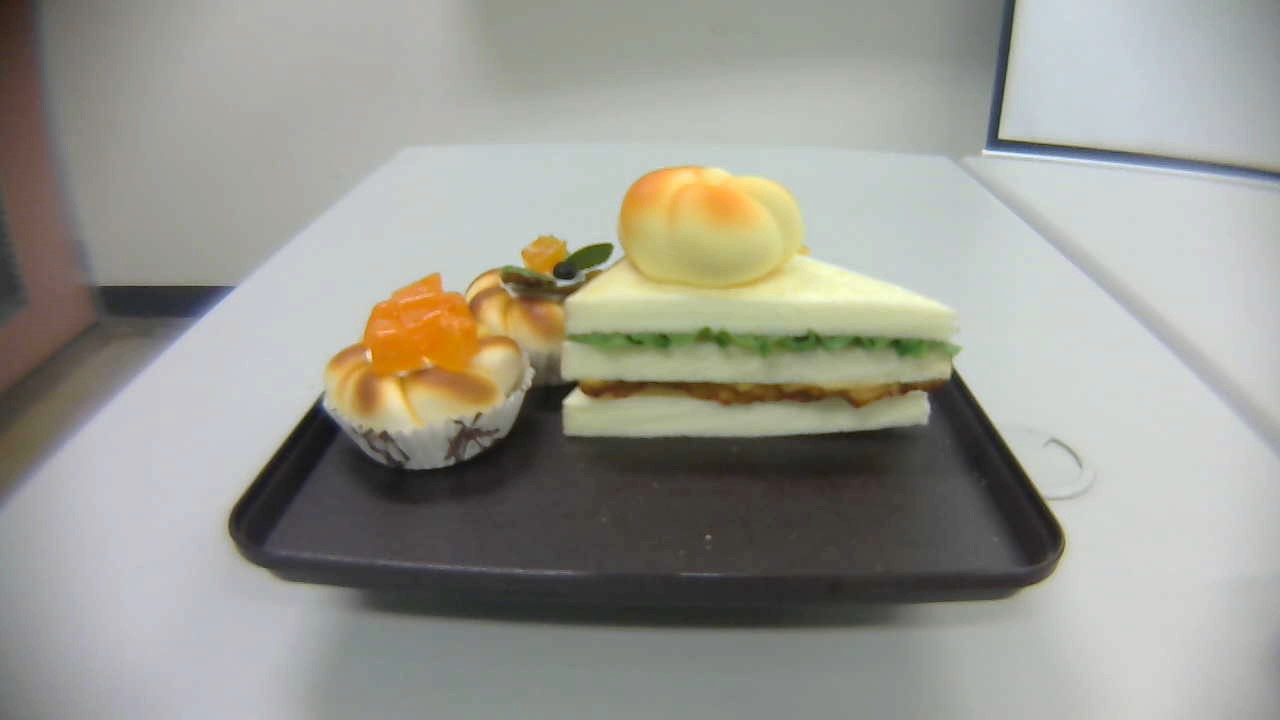fruit tart: (464, 232, 626, 391)
mango tart: (321, 272, 537, 475)
sandwich: (562, 224, 961, 437)
twist bread: (621, 162, 806, 291)
